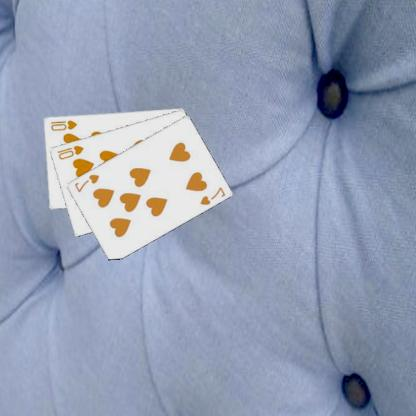10H: (56, 142, 87, 160), (49, 117, 80, 132)
7H: (73, 171, 103, 194), (198, 184, 228, 207)
